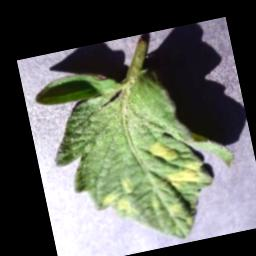Leaf_Mold: (96, 175, 141, 224), (163, 158, 210, 193), (147, 136, 184, 168)
